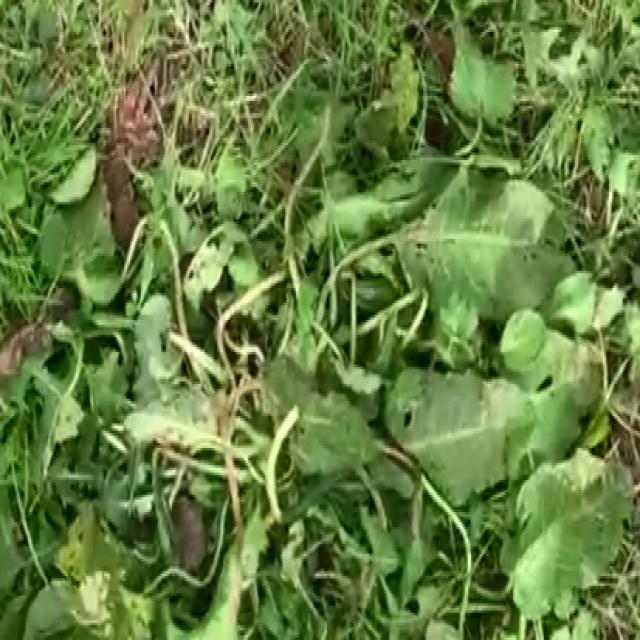organic waste: (31, 32, 612, 640)
